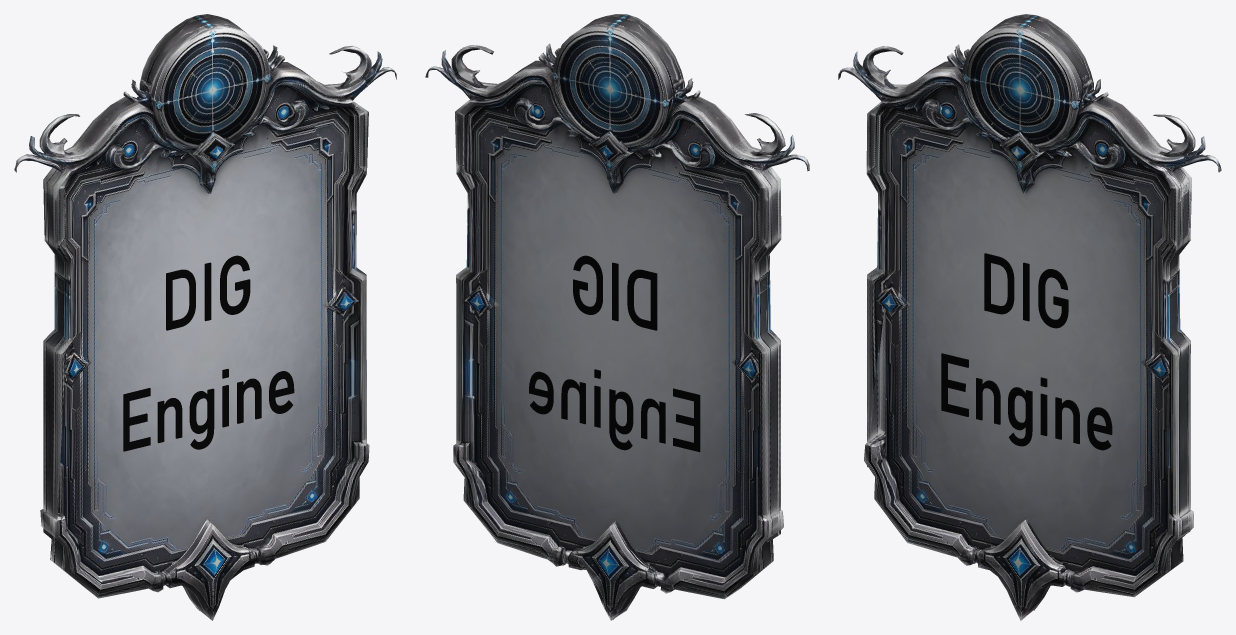
File: plaque_dig_engine.glb
3 views of the same model, side by side, from view 1: azimuth 30°, elevation 25°; view 2: azimuth 150°, elevation 25°; view 3: azimuth 330°, elevation 25° (orthographic).
Parts seen in each view (by area): view 1: mesh_node, Tekst; view 2: mesh_node, Tekst; view 3: mesh_node, Tekst.
Boxes of the visible parts, box(x1,y1,x2,y2) form: mesh_node: box(14, 14, 396, 620); Tekst: box(123, 255, 294, 451); mesh_node: box(425, 14, 809, 620); Tekst: box(529, 255, 700, 452); mesh_node: box(838, 14, 1221, 620); Tekst: box(941, 253, 1112, 450).
Size of the model in its own units: 0.6719 by 1 by 0.0862.
2 materials, 1 textured.
